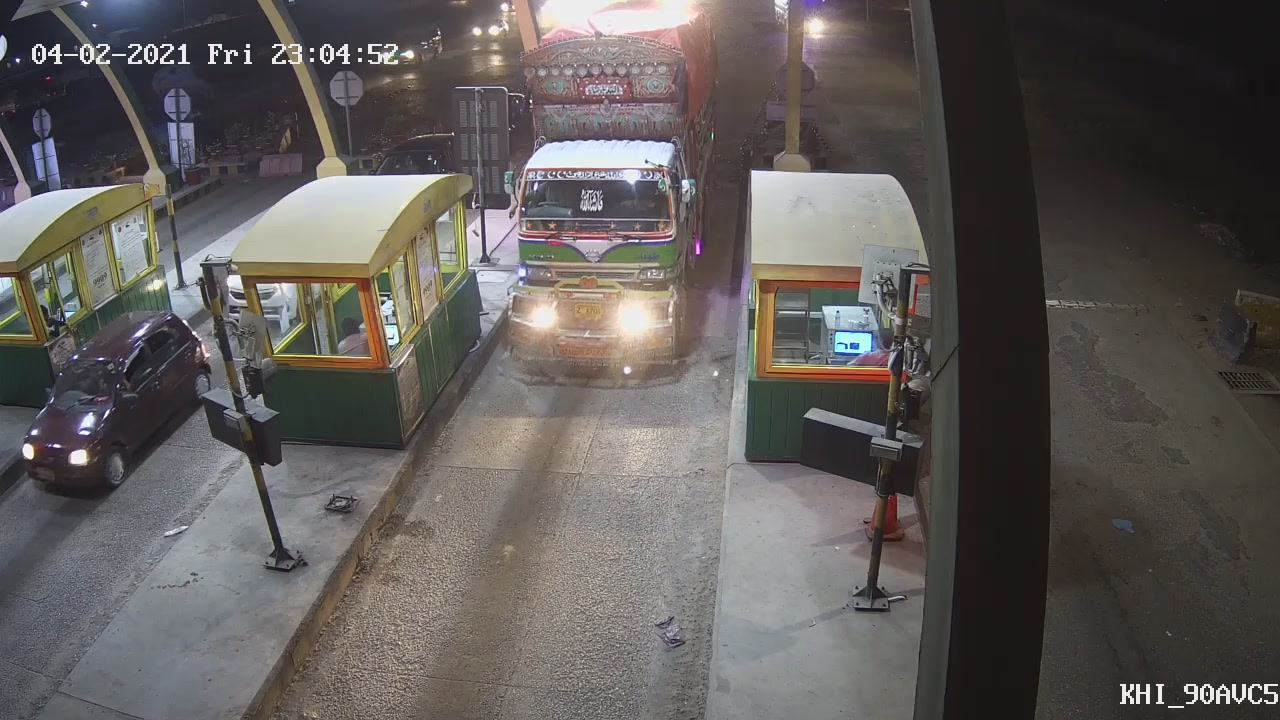F5: (490, 28, 714, 389)
